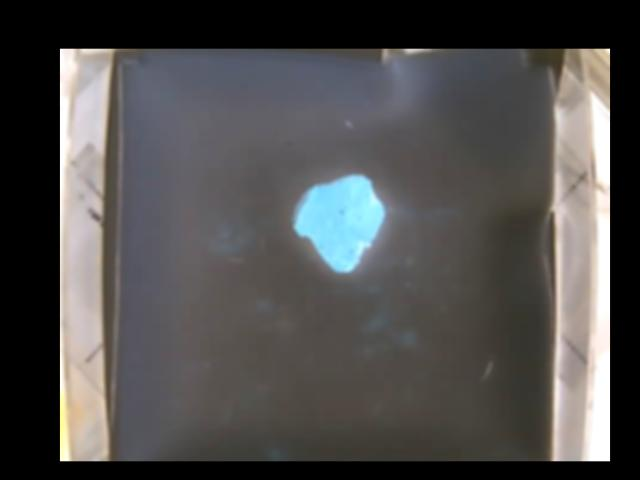Brisk: (294, 173, 384, 270)
